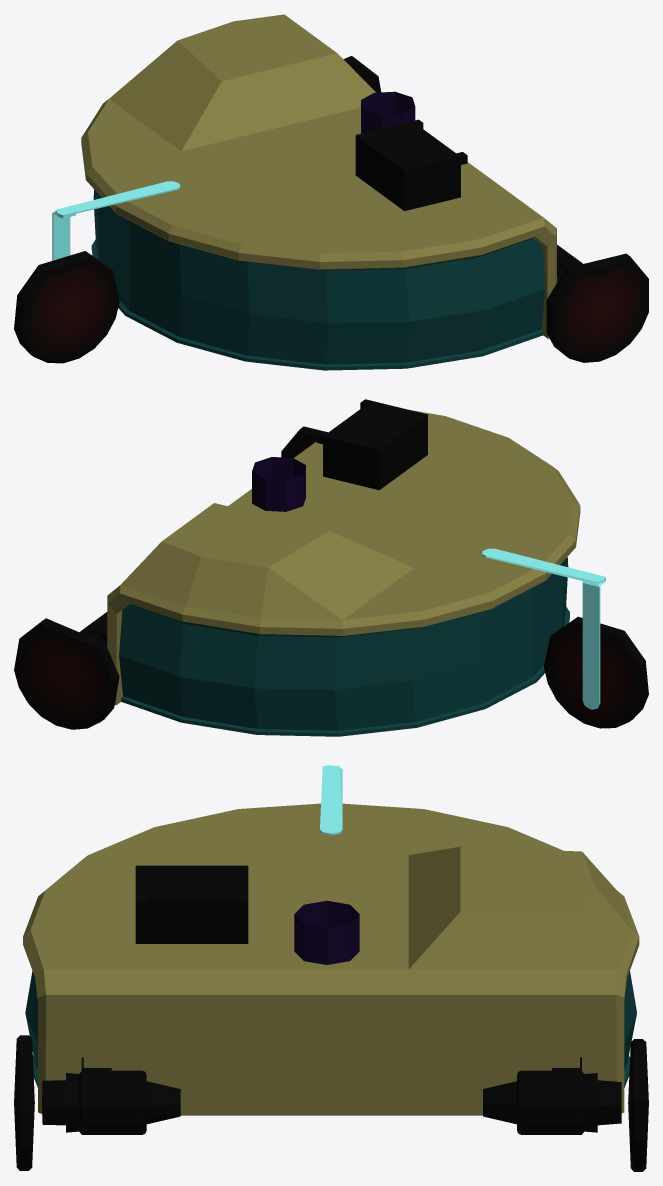
Rendered from VacuumBodyColliderMesh.fbx.
3 renders of one model, top to bottom at view 1: azimuth 30°, elevation 25°; view 2: azimuth 150°, elevation 25°; view 3: azimuth 270°, elevation 25°, orthographic. The views are drawn at different scales.
Parts seen in each view (by area): view 1: VacuumBodyColliderMesh; view 2: VacuumBodyColliderMesh; view 3: VacuumBodyColliderMesh.
Part boxes in pixels (box(x1,y1,x2,y2)): VacuumBodyColliderMesh: box(14, 14, 648, 370); VacuumBodyColliderMesh: box(14, 399, 648, 736); VacuumBodyColliderMesh: box(14, 765, 648, 1171).
Bounding box in the file's own units: 52.41 × 18.97 × 50.06.
